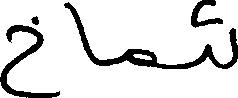X: (0, 11, 41, 97), (68, 0, 95, 68), (127, 44, 156, 71), (204, 0, 210, 65), (236, 34, 237, 66)
